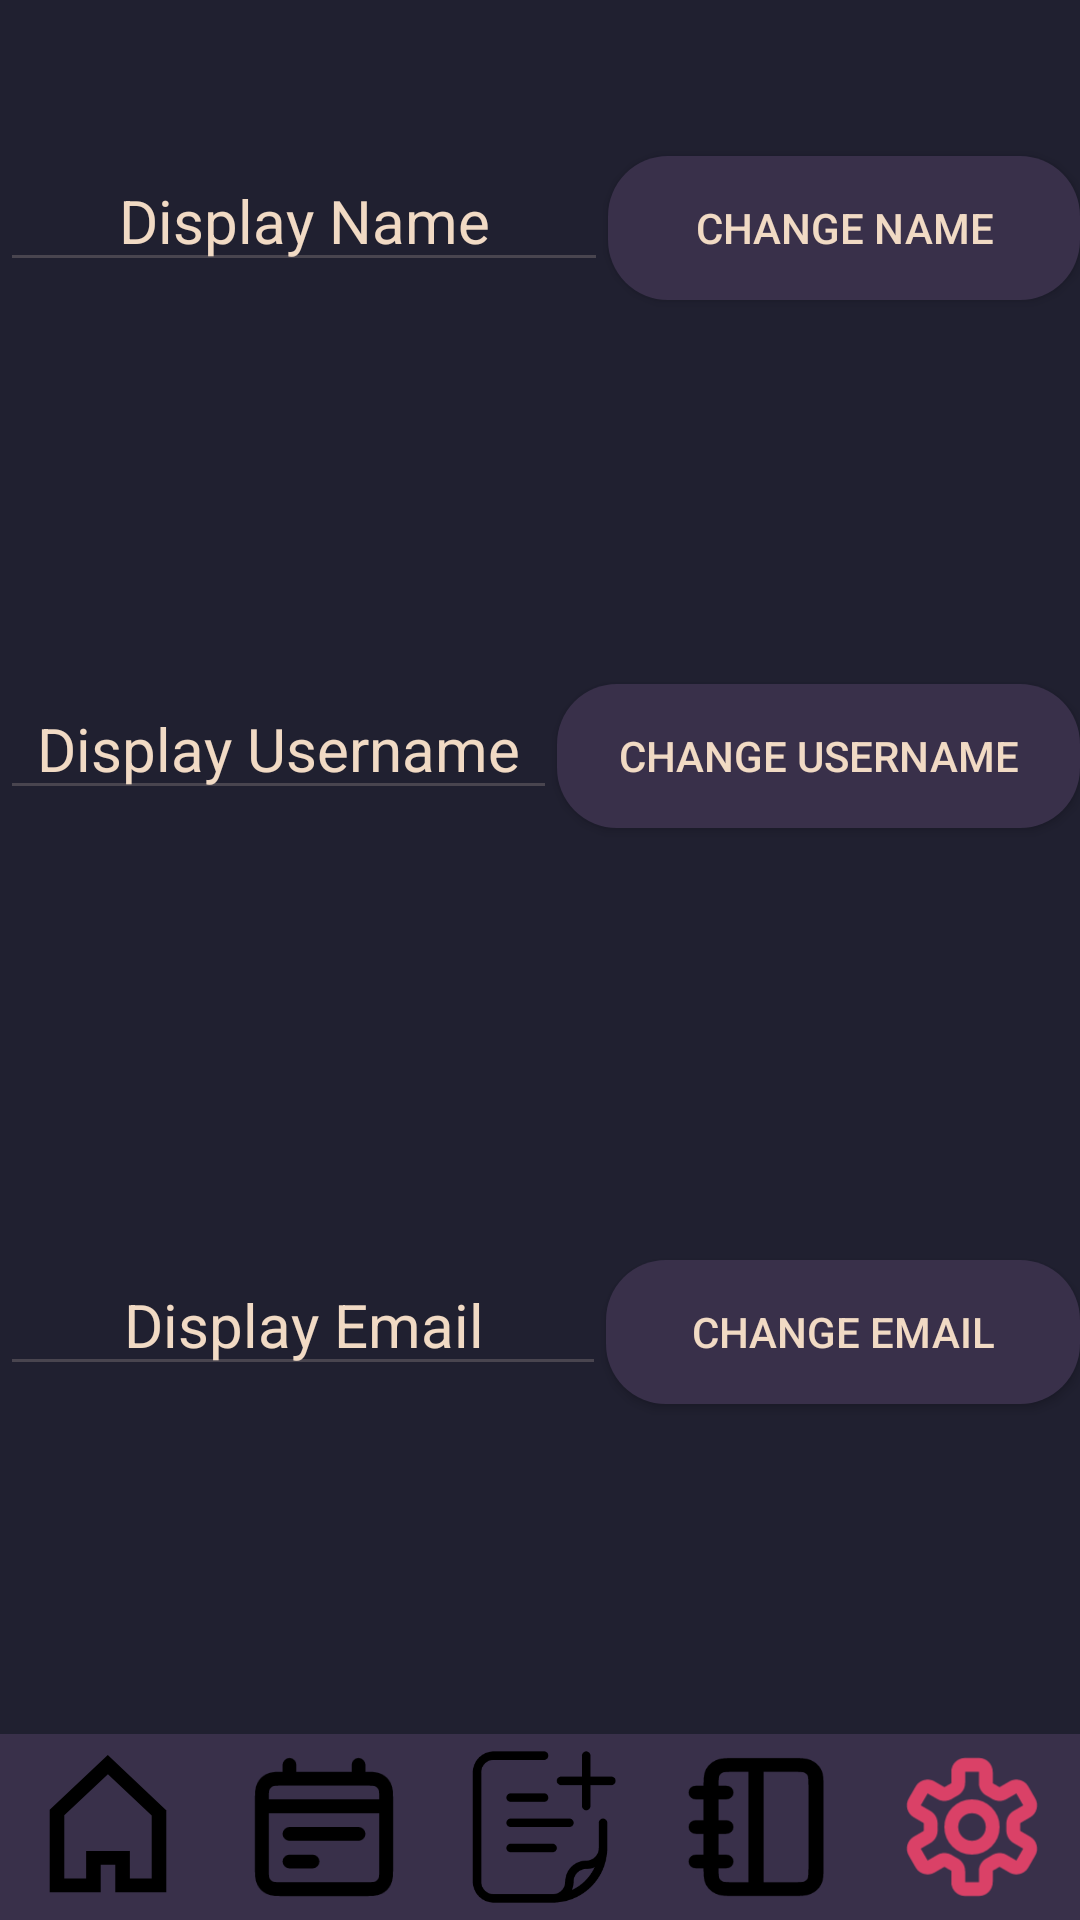

Named icons in this screenshot (1080px x 1920px) and their bounding boxes, (left=x1, top=y1, right=x2, bottom=y2):
home: (left=50, top=1755, right=166, bottom=1892)
